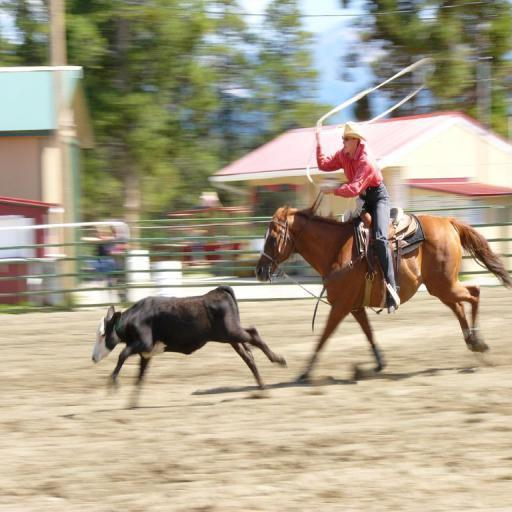horse: (254, 206, 512, 385)
